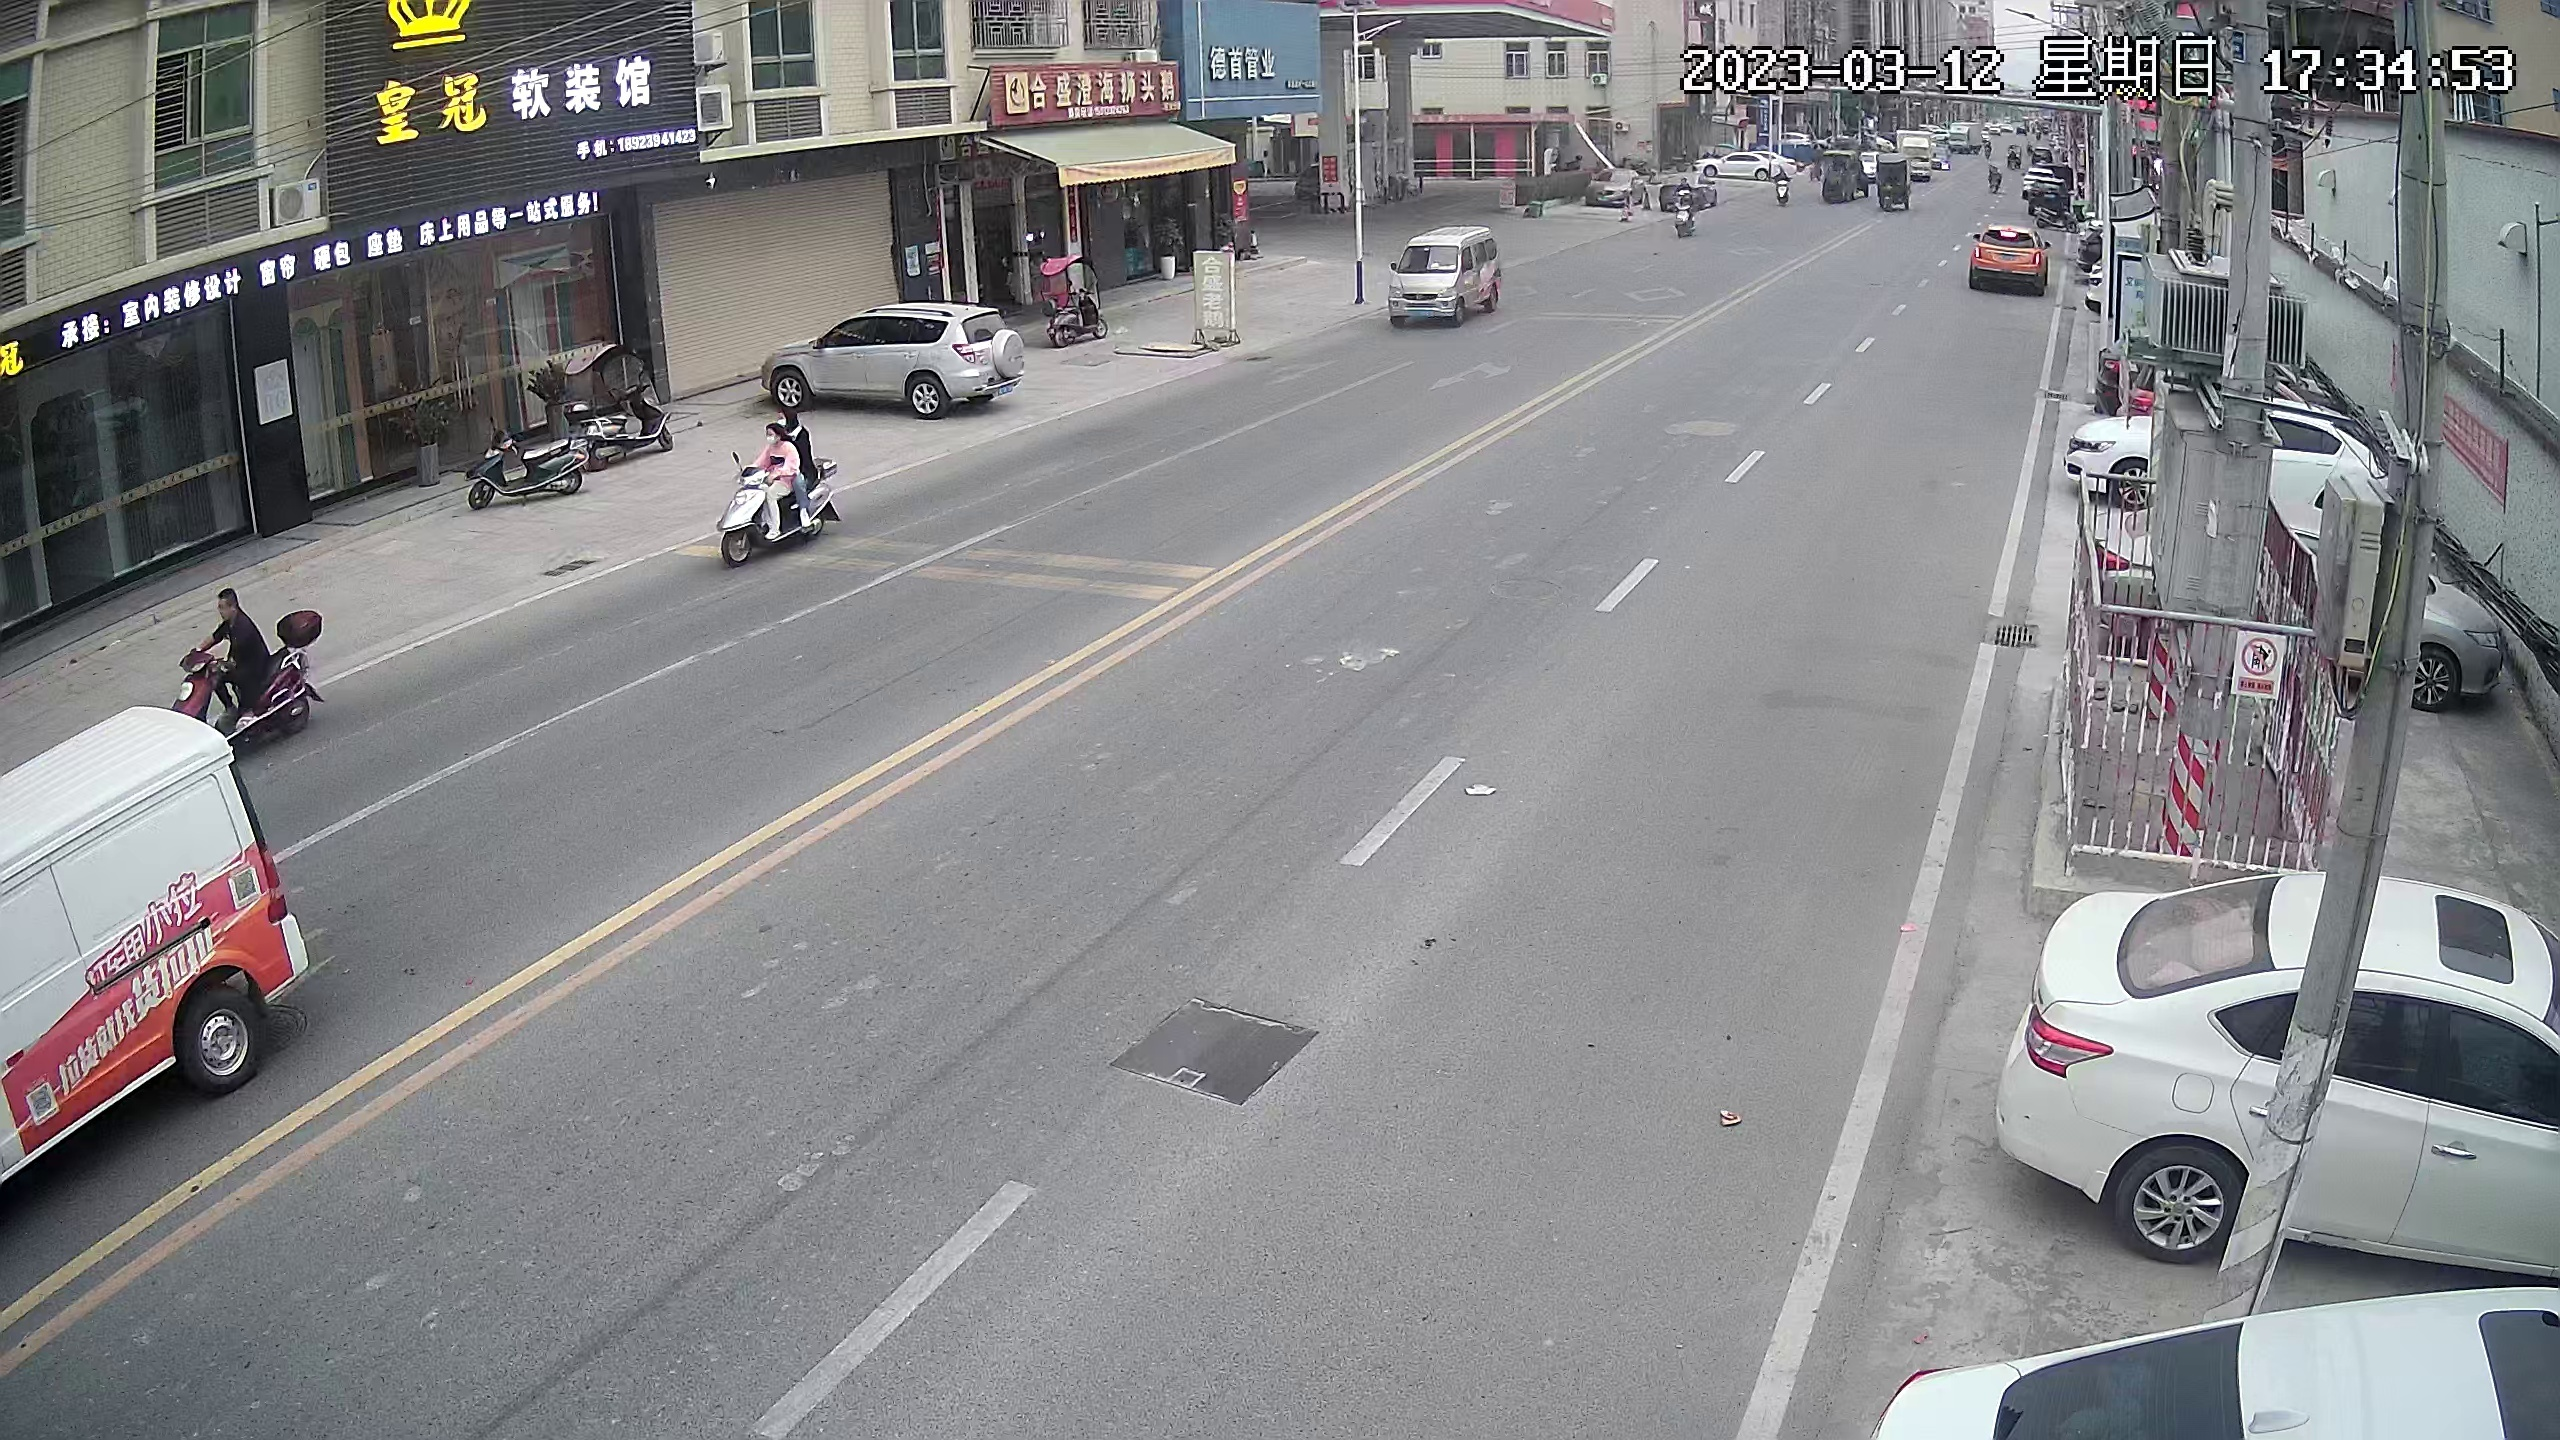motorcycle: (170, 588, 320, 745), (737, 405, 833, 574), (560, 343, 669, 464), (477, 428, 587, 505), (1039, 249, 1108, 352), (1673, 182, 1695, 243), (1984, 154, 2007, 198), (1770, 164, 1789, 212)
person: (212, 589, 274, 712), (759, 419, 793, 493)
sedan: (2038, 862, 2559, 1278), (1884, 1285, 2552, 1440), (2097, 524, 2500, 697), (2074, 410, 2384, 510), (1589, 167, 1653, 217), (1708, 145, 1768, 183), (2025, 168, 2069, 219)
suv: (763, 308, 1020, 412), (1973, 227, 2055, 299)
tricycle: (1877, 152, 1919, 209)
van: (7, 712, 307, 1217), (1382, 223, 1502, 332)
